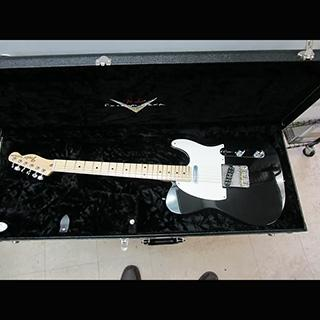Fender Telecaster: (5, 137, 289, 227)
SS: (189, 162, 243, 192)
